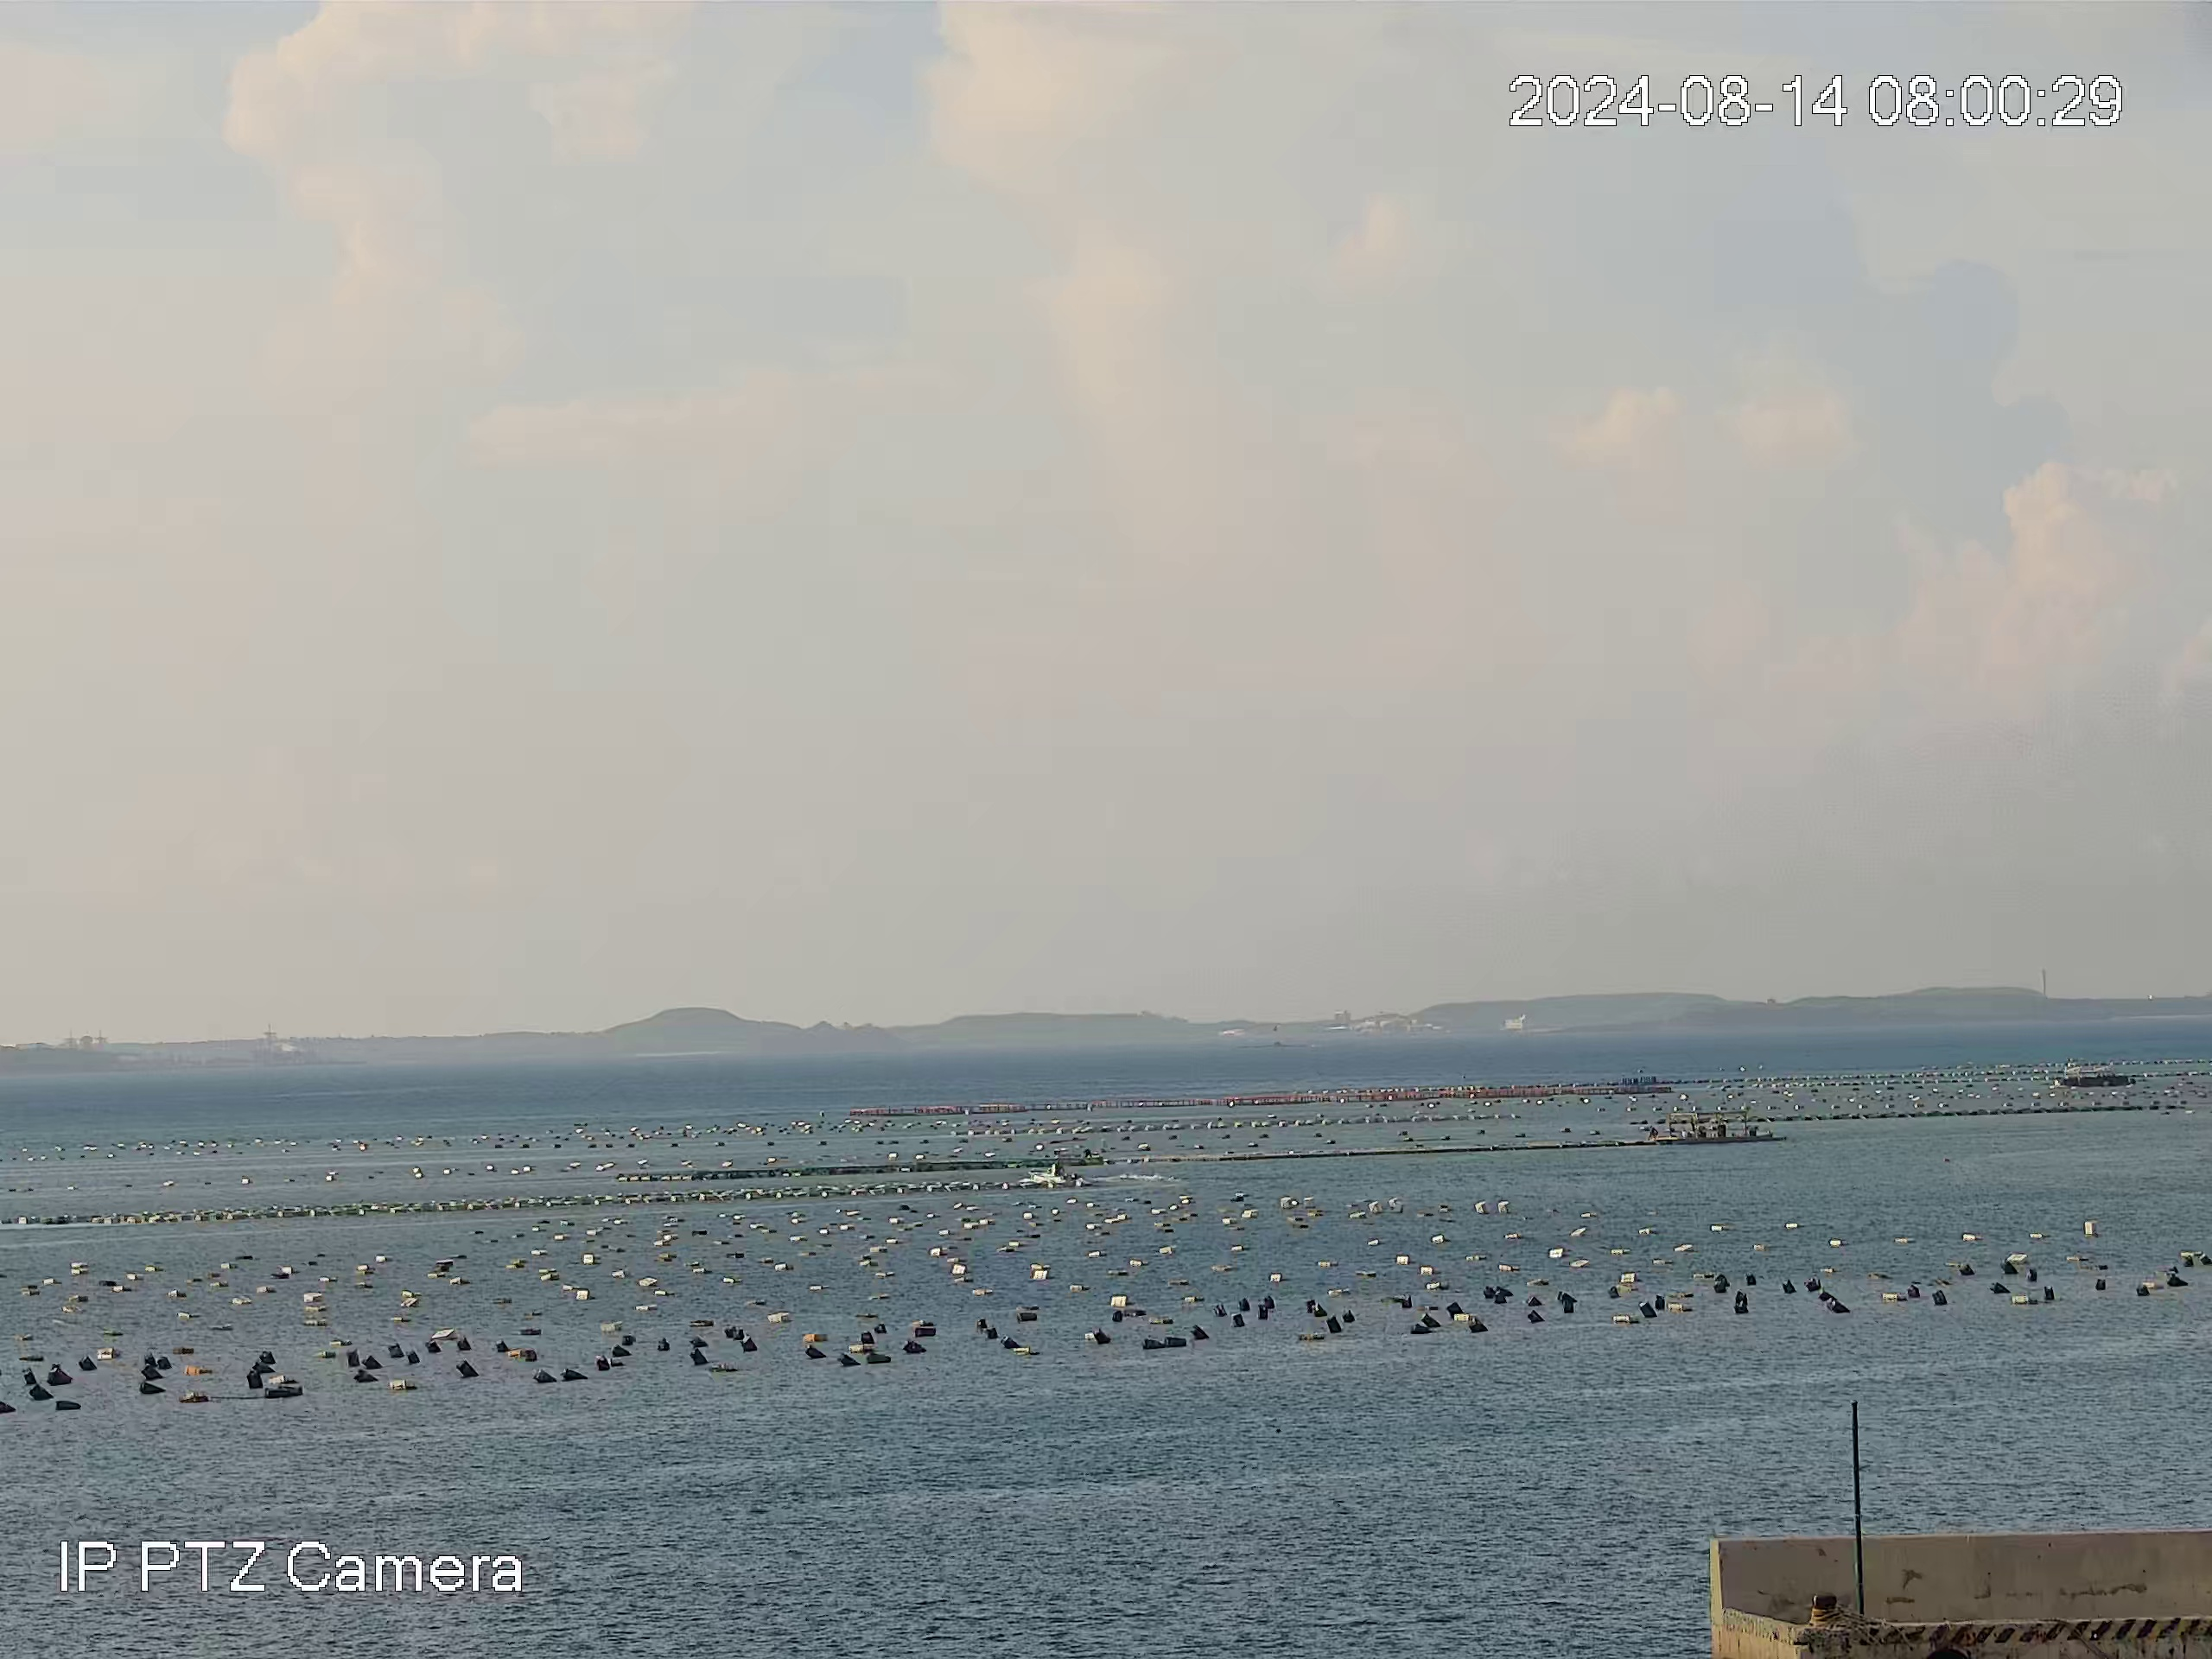boat: (1655, 1108, 1775, 1143), (1026, 1155, 1089, 1192), (2054, 1063, 2141, 1089)
